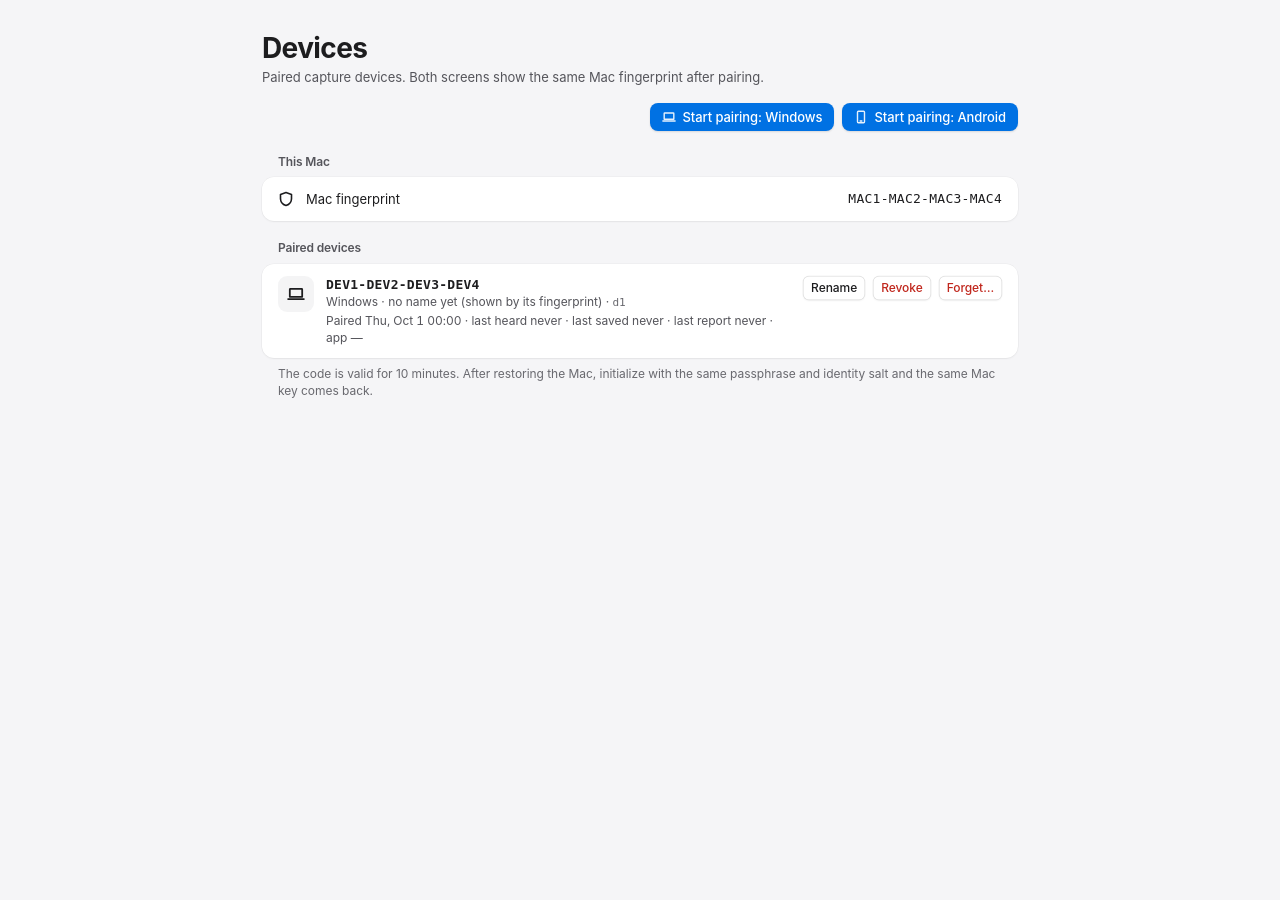
Test case: forget a device › a rejected confirmation and a device that is gone get plain messages
This screenshot has width=1280, height=900.
Click the button "Forget…" at (970, 288), box [939,276,1002,300]
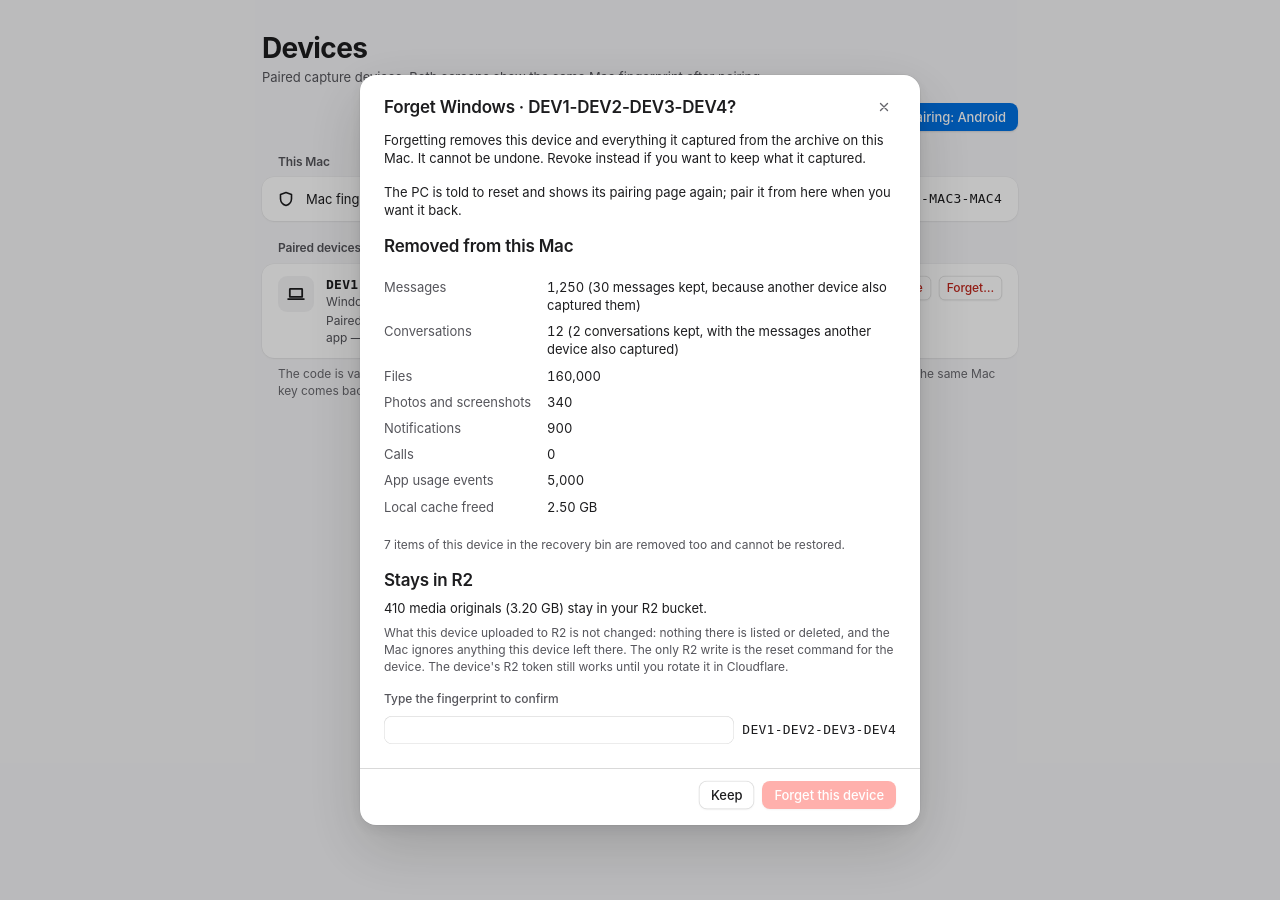
Type "DEV1-DEV2-DEV3-DEV4" into the field labelled "Type the fingerprint to confirm" at (559, 730), box [384,716,734,744]
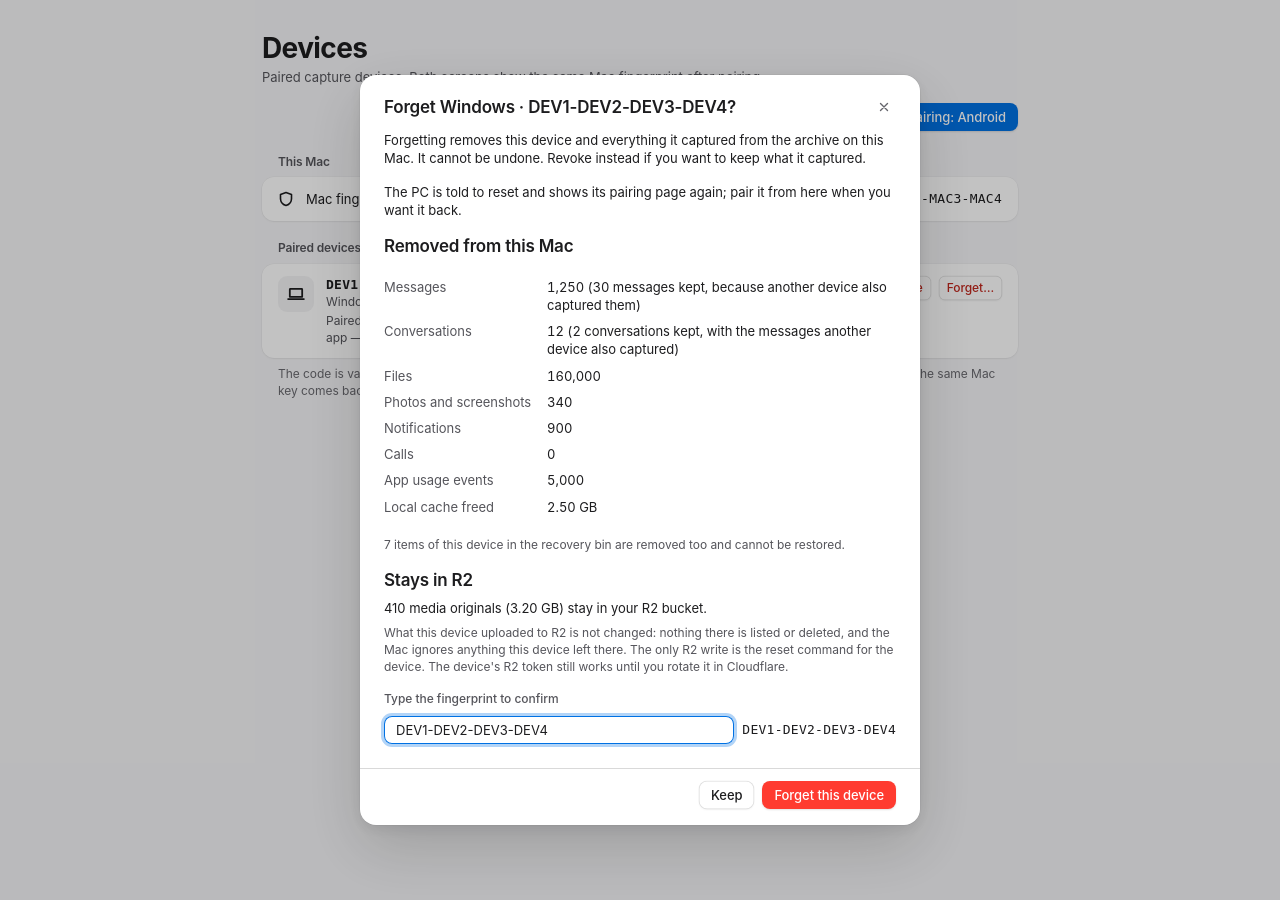
Click the button "Forget this device" at (829, 795), box [762,781,896,809]
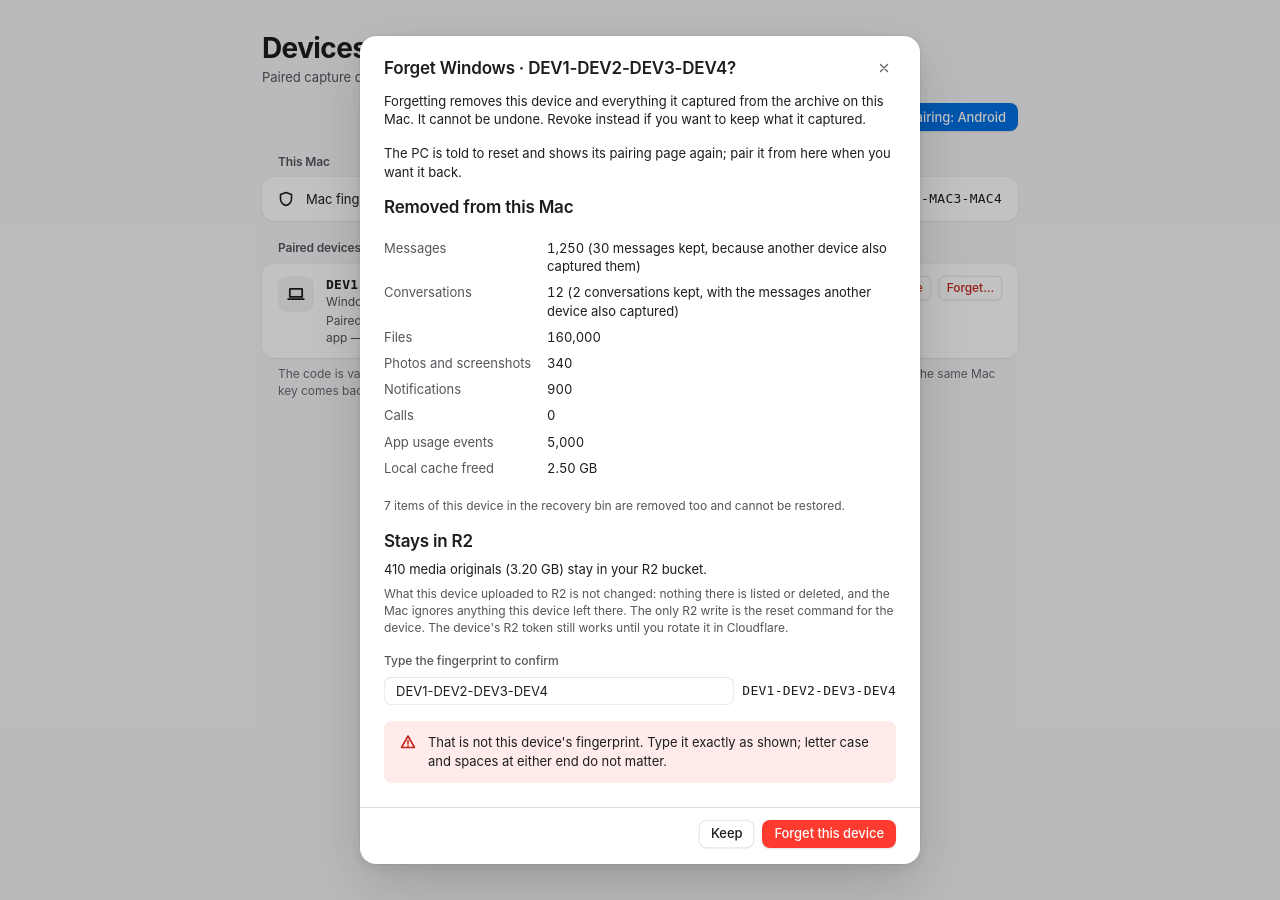
Expected: the message shows "That is not this device's fingerprint.", [428,734,869,769]
Click the button "Forget this device" at (829, 834), box [762,820,896,848]
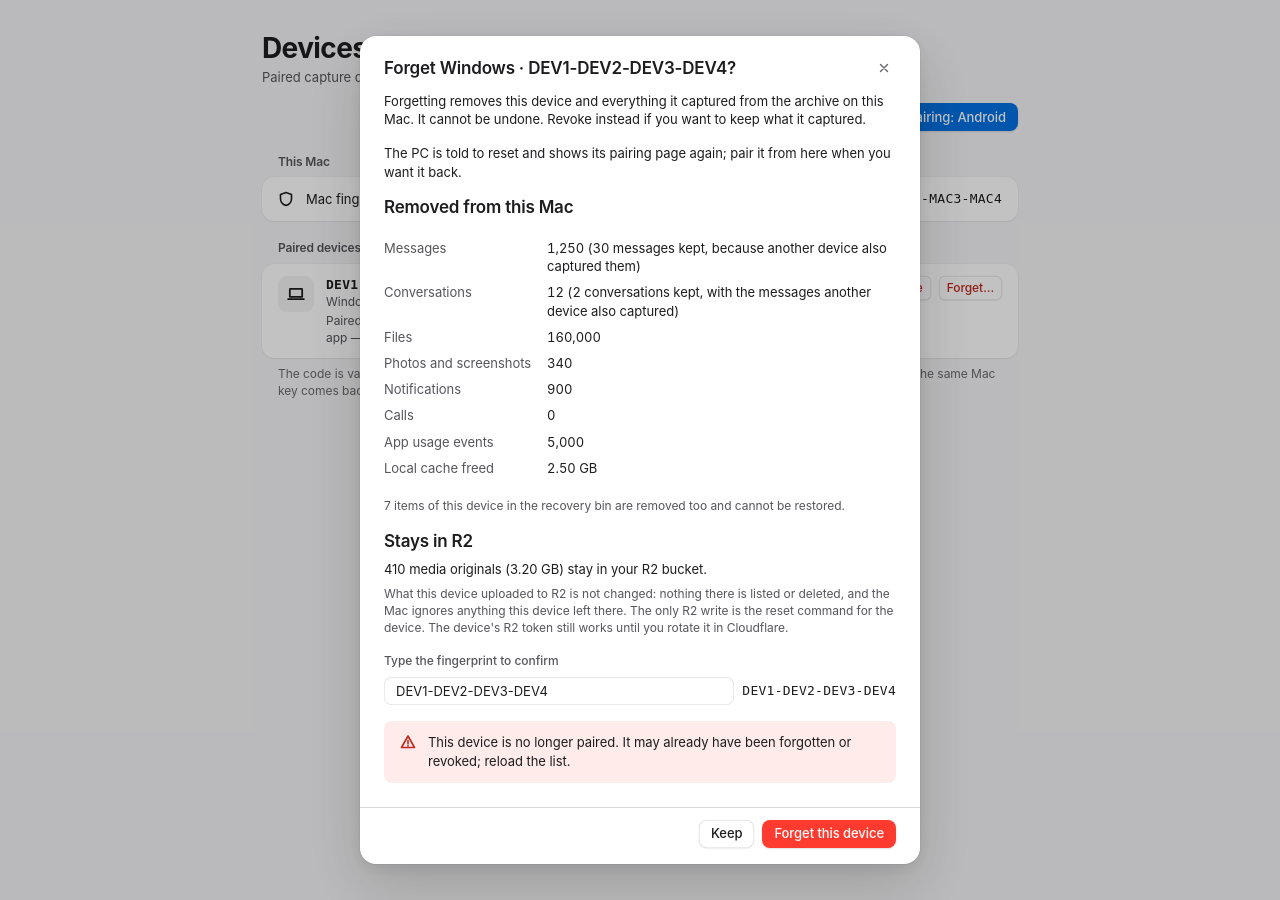
Expected: the message shows "This device is no longer paired.", [428,734,852,769]
